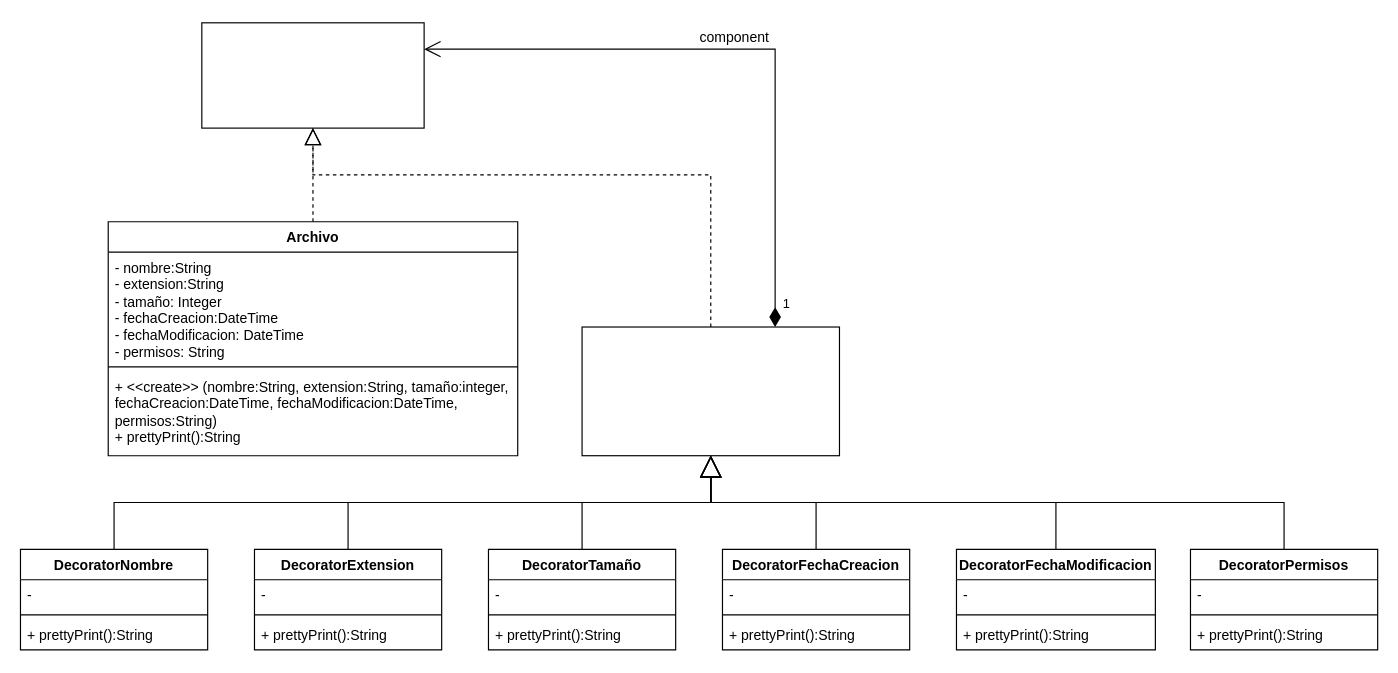
The diagram is 1398 pixels wide and 673 high, and some of its shapes have lost their labels. The shapes that lost their labels are listed below. From the top down, each one's centre as x and y in pixels, then its label:
the point at 312,75: <<Interface>> FileOO2 - + prettyPrint():String
the point at 710,391: <<Abstract>> Decorator - + <<create>> (component:FileOO2) + prettyPrint():String
